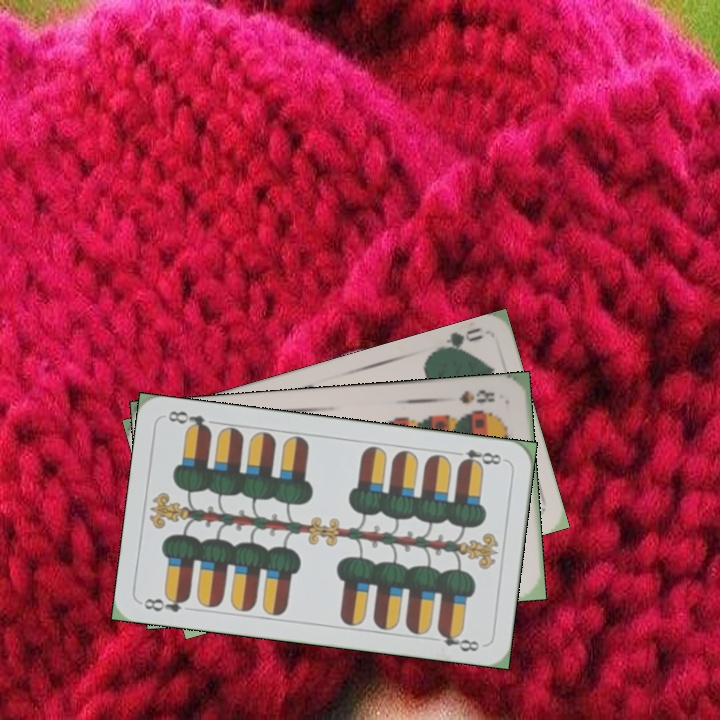E8: (449, 445, 508, 470), (140, 590, 192, 615)
GO: (430, 323, 486, 356)
S8: (455, 386, 498, 406)
